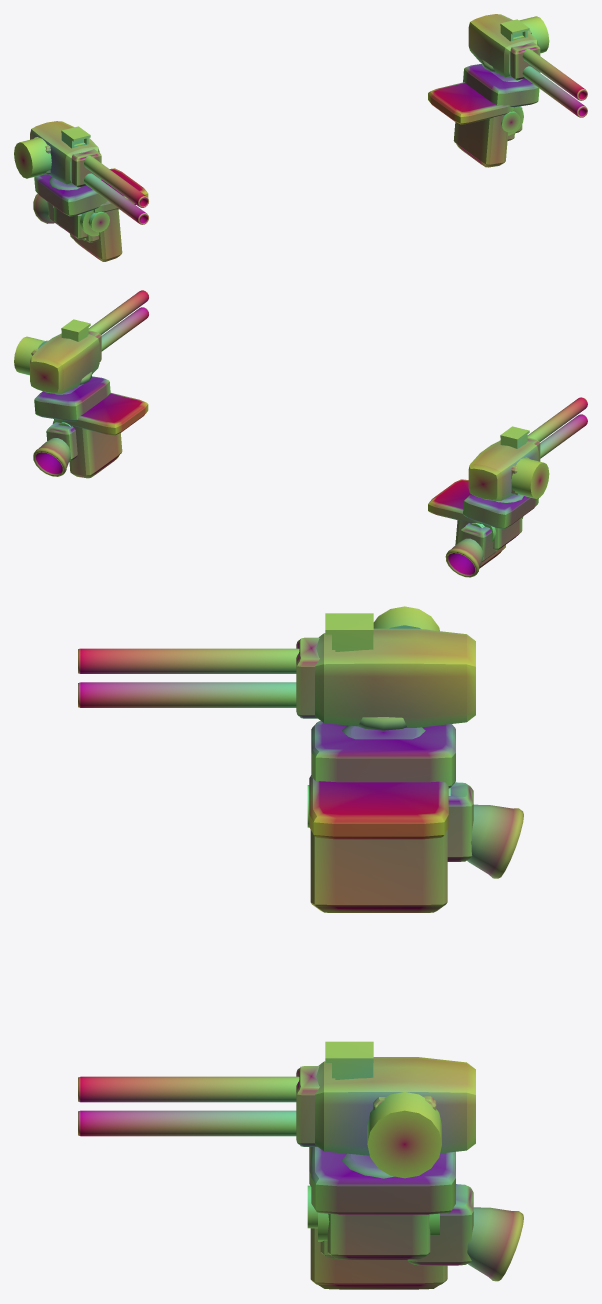
Rendered from llm_gen_shoulder_pods_062_128378.glb.
The picture shows the model from 3 angles, top to bottom: view 1: azimuth 30°, elevation 25°; view 2: azimuth 150°, elevation 25°; view 3: azimuth 270°, elevation 25°; orthographic projection. The views are drawn at different scales.
Visible parts, largest first — view 1: adapter_shoulder_yoke_r, adapter_shoulder_yoke_l, turret_breech_2_barrel_metal_r, turret_adapter_base_0_adapter_dark_r, turret_breech_2_barrel_metal_l, turret_adapter_base_0_adapter_dark_l, ciws_drum_mag_5_crimson_gloss_l, ciws_barrel_top_6_barrel_metal_r, ciws_barrel_top_6_barrel_metal_l, ciws_barrel_bot_7_barrel_metal_r, ciws_barrel_bot_7_barrel_metal_l, adapter_sub_ciws_shroud_dark_3_adapter_dark_l (+5 smaller); view 2: adapter_shoulder_yoke_r, turret_breech_2_barrel_metal_r, turret_breech_2_barrel_metal_l, adapter_shoulder_yoke_l, turret_adapter_base_0_adapter_dark_r, turret_adapter_base_0_adapter_dark_l, ciws_drum_mag_5_crimson_gloss_l, addon_sh_vernier_10_vernier_bell_vernier_l, addon_sh_vernier_10_vernier_bell_vernier_r, ciws_barrel_top_6_barrel_metal_l, ciws_barrel_top_6_barrel_metal_r, ciws_barrel_bot_7_barrel_metal_r (+6 smaller); view 3: adapter_shoulder_yoke_l, turret_breech_2_barrel_metal_l, turret_breech_2_barrel_metal_r, adapter_shoulder_yoke_r, turret_adapter_base_0_adapter_dark_l, turret_adapter_base_0_adapter_dark_r, ciws_barrel_top_6_barrel_metal_r, ciws_barrel_bot_7_barrel_metal_r, ciws_barrel_top_6_barrel_metal_l, ciws_barrel_bot_7_barrel_metal_l, ciws_drum_mag_5_crimson_gloss_r, addon_sh_vernier_10_vernier_bell_vernier_r (+9 smaller).
Boxes of the visible parts, left/top/right/bottom form: adapter_shoulder_yoke_r: left=428, top=82, right=523, bottom=167; adapter_shoulder_yoke_l: left=53, top=168, right=148, bottom=261; turret_breech_2_barrel_metal_r: left=468, top=14, right=538, bottom=77; turret_adapter_base_0_adapter_dark_r: left=463, top=63, right=539, bottom=107; turret_breech_2_barrel_metal_l: left=30, top=121, right=99, bottom=184; turret_adapter_base_0_adapter_dark_l: left=34, top=174, right=107, bottom=216; ciws_drum_mag_5_crimson_gloss_l: left=14, top=137, right=51, bottom=178; ciws_barrel_top_6_barrel_metal_r: left=522, top=49, right=587, bottom=100; ciws_barrel_top_6_barrel_metal_l: left=84, top=156, right=148, bottom=207; ciws_barrel_bot_7_barrel_metal_r: left=522, top=66, right=587, bottom=117; ciws_barrel_bot_7_barrel_metal_l: left=84, top=173, right=148, bottom=224; adapter_sub_ciws_shroud_dark_3_adapter_dark_l: left=71, top=149, right=101, bottom=187; adapter_shoulder_yoke_r: left=52, top=393, right=148, bottom=478; turret_breech_2_barrel_metal_r: left=30, top=333, right=99, bottom=393; turret_breech_2_barrel_metal_l: left=468, top=440, right=538, bottom=501; adapter_shoulder_yoke_l: left=428, top=479, right=523, bottom=568; turret_adapter_base_0_adapter_dark_r: left=34, top=376, right=110, bottom=421; turret_adapter_base_0_adapter_dark_l: left=463, top=494, right=538, bottom=529; ciws_drum_mag_5_crimson_gloss_l: left=511, top=458, right=549, bottom=498; addon_sh_vernier_10_vernier_bell_vernier_l: left=445, top=538, right=483, bottom=577; addon_sh_vernier_10_vernier_bell_vernier_r: left=33, top=438, right=70, bottom=476; ciws_barrel_top_6_barrel_metal_l: left=527, top=397, right=587, bottom=441; ciws_barrel_top_6_barrel_metal_r: left=88, top=290, right=148, bottom=334; ciws_barrel_bot_7_barrel_metal_r: left=101, top=307, right=148, bottom=351; adapter_shoulder_yoke_l: left=309, top=775, right=448, bottom=912; turret_breech_2_barrel_metal_l: left=315, top=628, right=475, bottom=727; turret_breech_2_barrel_metal_r: left=315, top=1057, right=475, bottom=1155; adapter_shoulder_yoke_r: left=309, top=1147, right=447, bottom=1289; turret_adapter_base_0_adapter_dark_l: left=311, top=721, right=455, bottom=788; turret_adapter_base_0_adapter_dark_r: left=311, top=1147, right=455, bottom=1214; ciws_barrel_top_6_barrel_metal_r: left=78, top=1076, right=299, bottom=1102; ciws_barrel_bot_7_barrel_metal_r: left=78, top=1110, right=296, bottom=1136; ciws_barrel_top_6_barrel_metal_l: left=78, top=648, right=299, bottom=673; ciws_barrel_bot_7_barrel_metal_l: left=78, top=682, right=296, bottom=707; ciws_drum_mag_5_crimson_gloss_r: left=367, top=1092, right=441, bottom=1178; addon_sh_vernier_10_vernier_bell_vernier_r: left=467, top=1207, right=523, bottom=1281.
Bounding box in the file's own units: 111 × 26.7 × 41.67.
